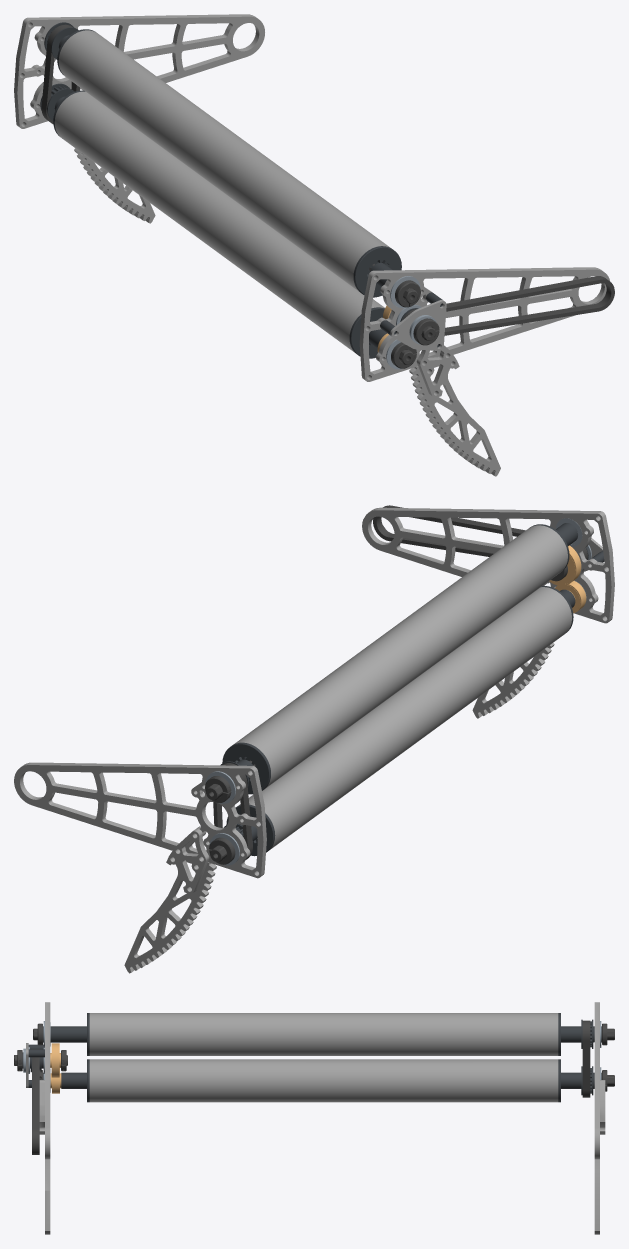
3 renders of one model, top to bottom at view 1: azimuth 30°, elevation 25°; view 2: azimuth 150°, elevation 25°; view 3: azimuth 270°, elevation 25°, orthographic. The views are drawn at different scales.
Visible parts, largest first — view 1: 26G0507Hood reverse, 5mmBelt-95-9mm-15-18, 1/2" Long #10 3/8" Spacer, 1/2" Thunder Flanged; view 2: 26G0507Hood reverse, 5mmBelt-95-9mm-15-18, 1/2" Long #10 3/8" Spacer, 30T 20DP 1/2" Alum, 1/2" Thunder Flanged; view 3: 26G0507Hood reverse, 1/2" Long #10 3/8" Spacer, 5mmBelt-95-9mm-15-18, 30T 20DP 1/2" Alum, 1/2" Thunder Flanged.
Boxes of the visible parts, <box> form: 26G0507Hood reverse: <box>14,14,610,476</box>; 5mmBelt-95-9mm-15-18: <box>41,24,614,368</box>; 1/2" Long #10 3/8" Spacer: <box>40,22,442,358</box>; 1/2" Thunder Flanged: <box>386,276,436,369</box>; 26G0507Hood reverse: <box>14,507,614,973</box>; 5mmBelt-95-9mm-15-18: <box>205,505,587,864</box>; 1/2" Long #10 3/8" Spacer: <box>220,523,604,856</box>; 30T 20DP 1/2" Alum: <box>549,545,586,613</box>; 1/2" Thunder Flanged: <box>205,518,591,865</box>; 26G0507Hood reverse: <box>26,1002,605,1234</box>; 1/2" Long #10 3/8" Spacer: <box>22,1013,601,1102</box>; 5mmBelt-95-9mm-15-18: <box>14,1020,614,1154</box>; 30T 20DP 1/2" Alum: <box>50,1043,61,1093</box>; 1/2" Thunder Flanged: <box>23,1021,601,1092</box>.
Size of the model in its own units: 0.2681 by 0.2408 by 0.7082.
